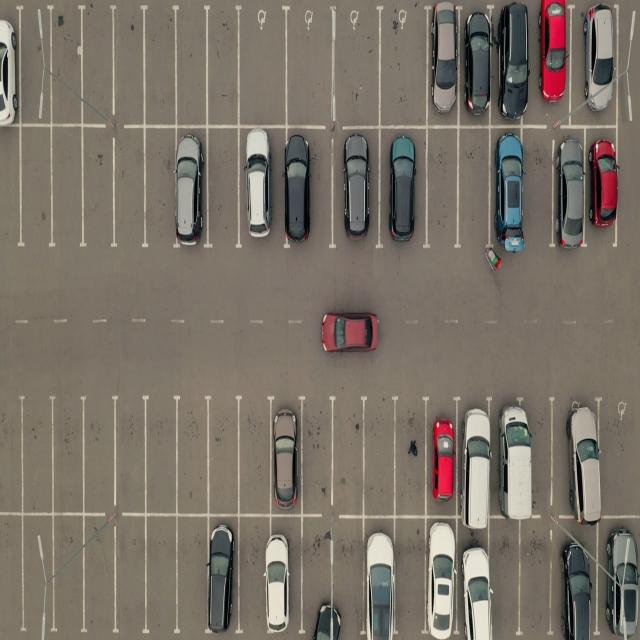space-empty: (238, 8, 289, 126), (377, 7, 425, 128), (287, 10, 337, 126), (334, 8, 381, 126), (45, 516, 87, 633), (46, 5, 86, 126), (48, 127, 86, 250), (142, 6, 180, 127), (15, 127, 52, 251), (601, 403, 640, 518), (113, 5, 150, 126), (175, 7, 212, 127), (78, 132, 115, 252), (77, 5, 114, 125), (16, 399, 54, 515), (78, 399, 116, 515), (205, 7, 242, 126), (458, 128, 494, 250), (17, 515, 54, 633), (141, 130, 177, 251), (112, 131, 148, 251), (143, 396, 180, 512), (206, 128, 242, 247), (49, 400, 86, 515), (177, 397, 214, 512), (115, 396, 152, 511), (393, 397, 429, 515), (142, 517, 178, 633), (79, 516, 115, 632), (359, 398, 395, 514), (331, 520, 366, 639), (520, 522, 556, 637), (236, 516, 271, 634), (238, 397, 274, 511), (115, 516, 150, 633), (297, 398, 333, 511), (205, 396, 240, 512), (177, 516, 211, 634), (298, 518, 332, 636), (331, 397, 366, 511), (424, 126, 457, 246), (396, 519, 429, 638), (524, 127, 556, 247), (15, 9, 48, 124), (488, 519, 520, 637), (0, 396, 24, 516), (0, 514, 24, 633), (0, 128, 22, 251)
space-occupied: (488, 127, 542, 250), (552, 396, 601, 519), (282, 130, 332, 250), (491, 396, 539, 516), (240, 129, 286, 249), (574, 0, 618, 124), (333, 130, 379, 248), (382, 125, 428, 243), (258, 513, 301, 635), (459, 396, 498, 517), (601, 519, 640, 637), (552, 535, 596, 639), (535, 1, 572, 122), (493, 4, 529, 123), (459, 519, 494, 639), (424, 397, 459, 516), (426, 6, 460, 126), (424, 518, 458, 636), (177, 130, 210, 251), (362, 517, 395, 638), (268, 396, 303, 509), (554, 130, 587, 247), (463, 8, 496, 124), (207, 516, 238, 632), (585, 127, 615, 241), (0, 6, 22, 125)
